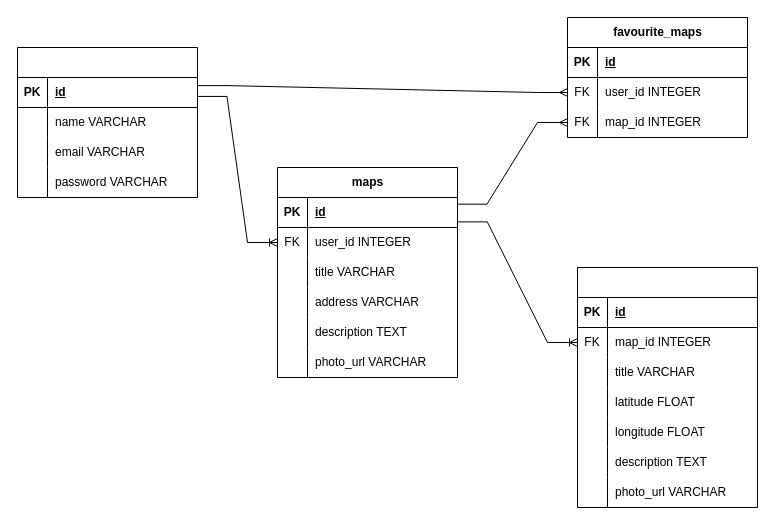
Image size: 775x525. Some labels were removed from this diagram. Here are the shapes that lost their labels. From the top down, the box of each, then its label:
(16, 46, 198, 198): users
(576, 266, 758, 508): places
